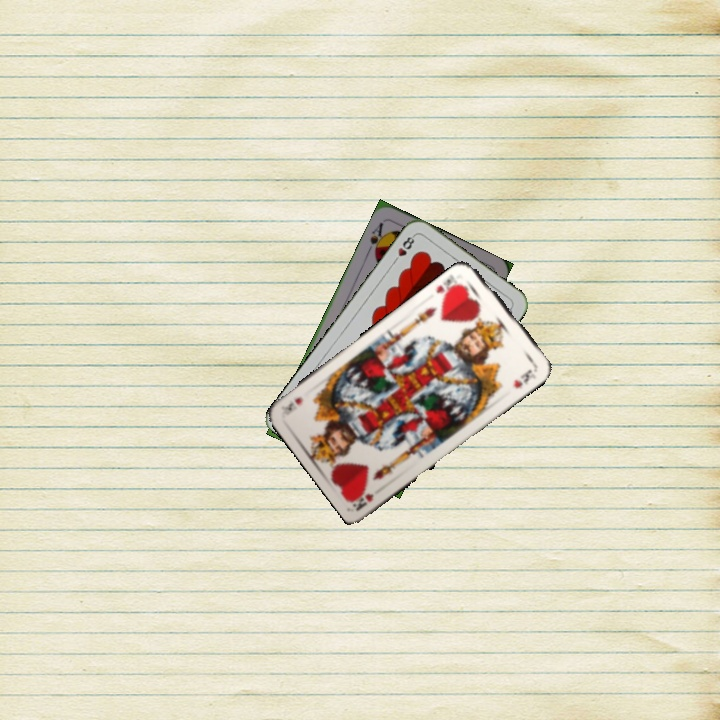H8: (389, 231, 418, 266)
HK: (432, 275, 464, 302), (350, 488, 376, 512)
SA: (363, 218, 389, 258)
